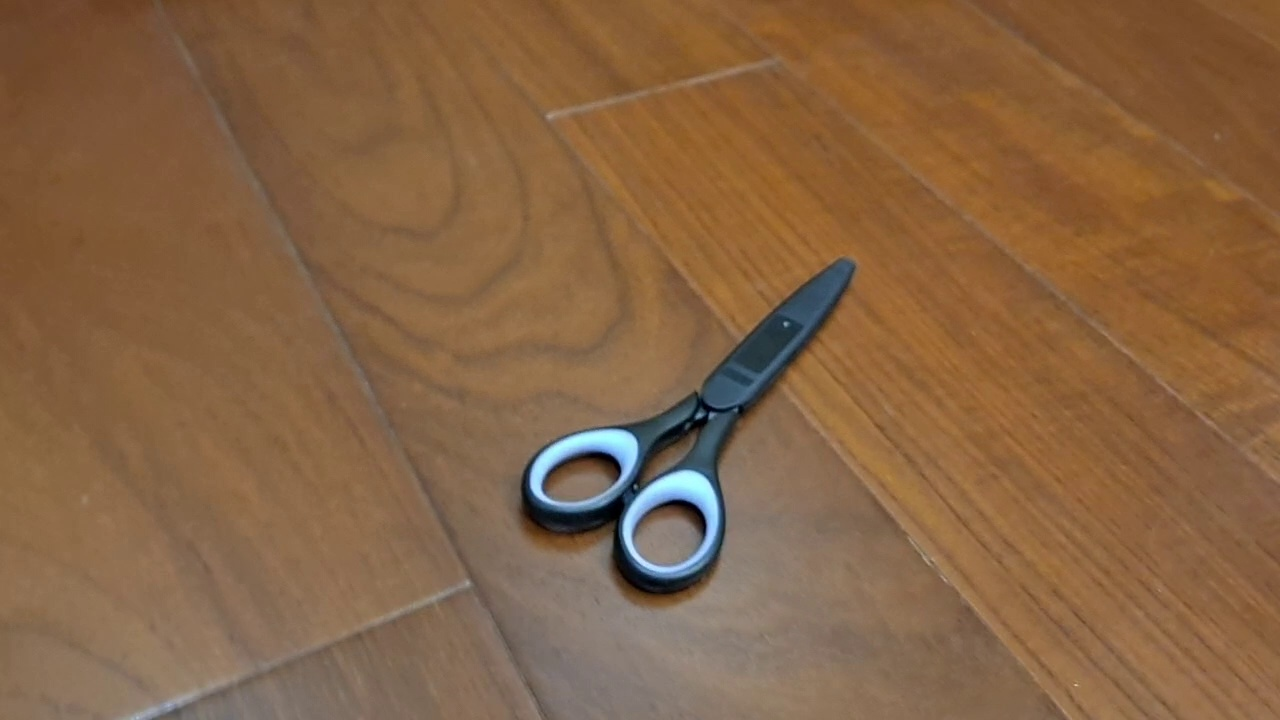scissors: (520, 252, 859, 596)
